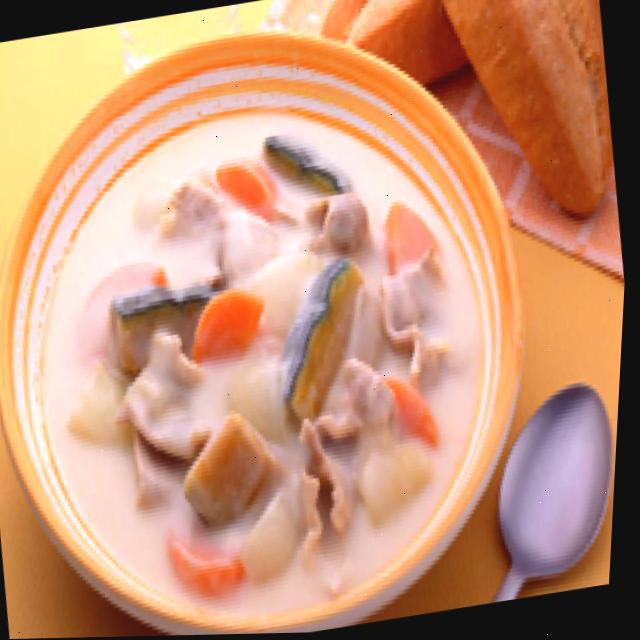汤锅炖物: (0, 0, 577, 640)
